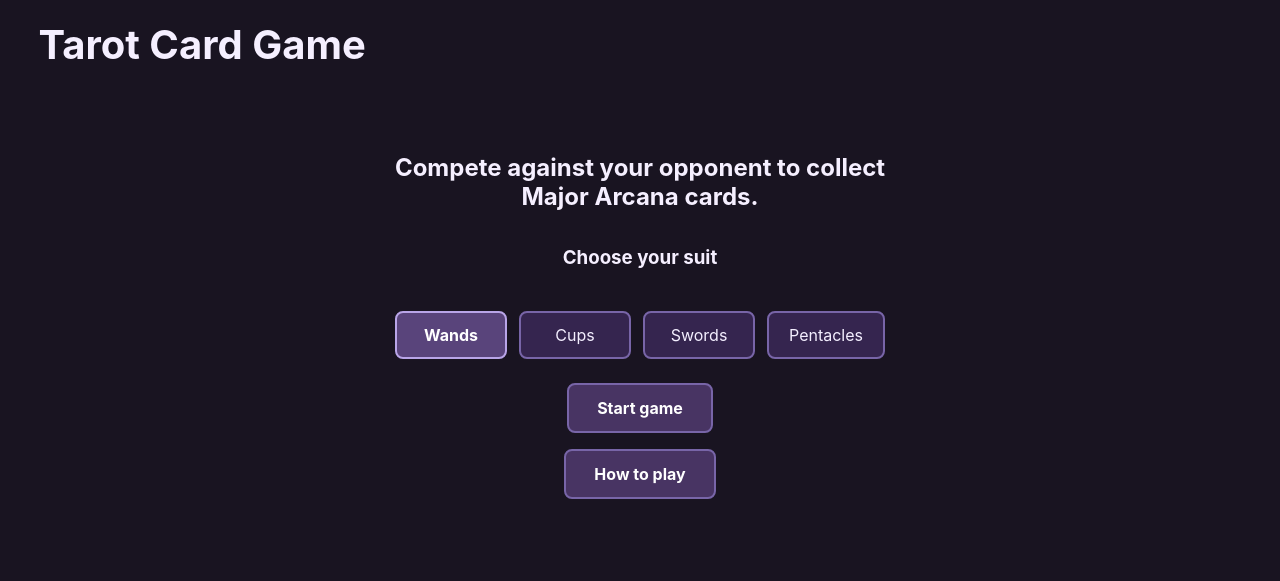
Test: App › returns to suit selection when New game is clicked
What coordinates should you click on to do the following:
click the button "Wands"
I would click on:
 (451, 335)
Its box is left=395, top=311, right=507, bottom=359.
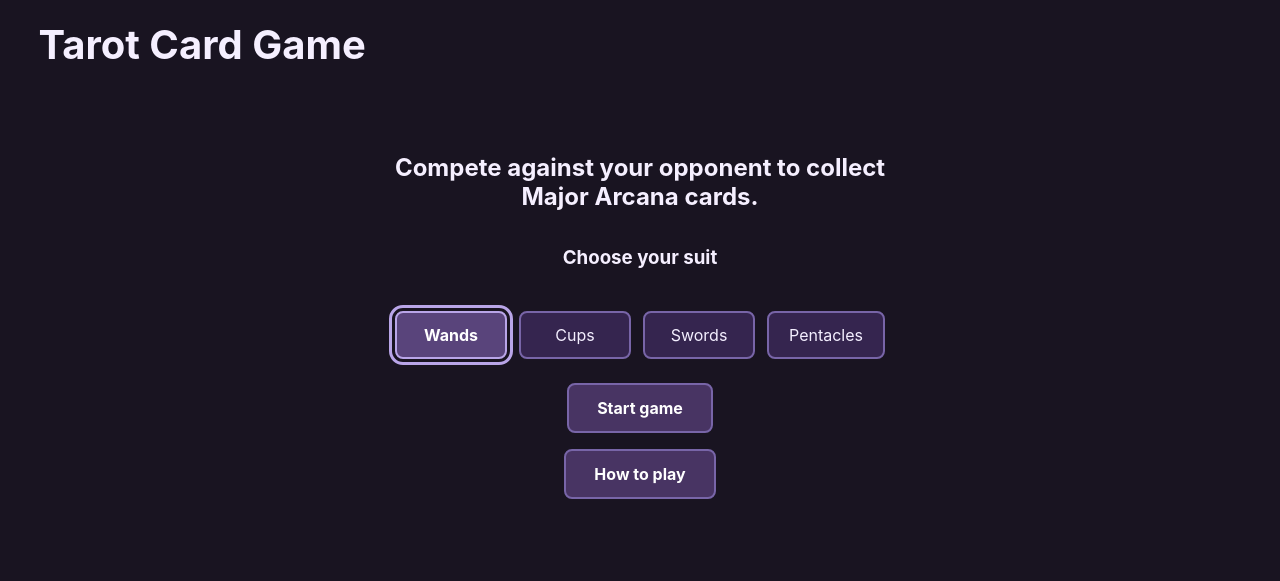
What coordinates should you click on to do the following:
click the button "Start game"
I would click on:
 (640, 408)
Its box is left=567, top=383, right=713, bottom=433.
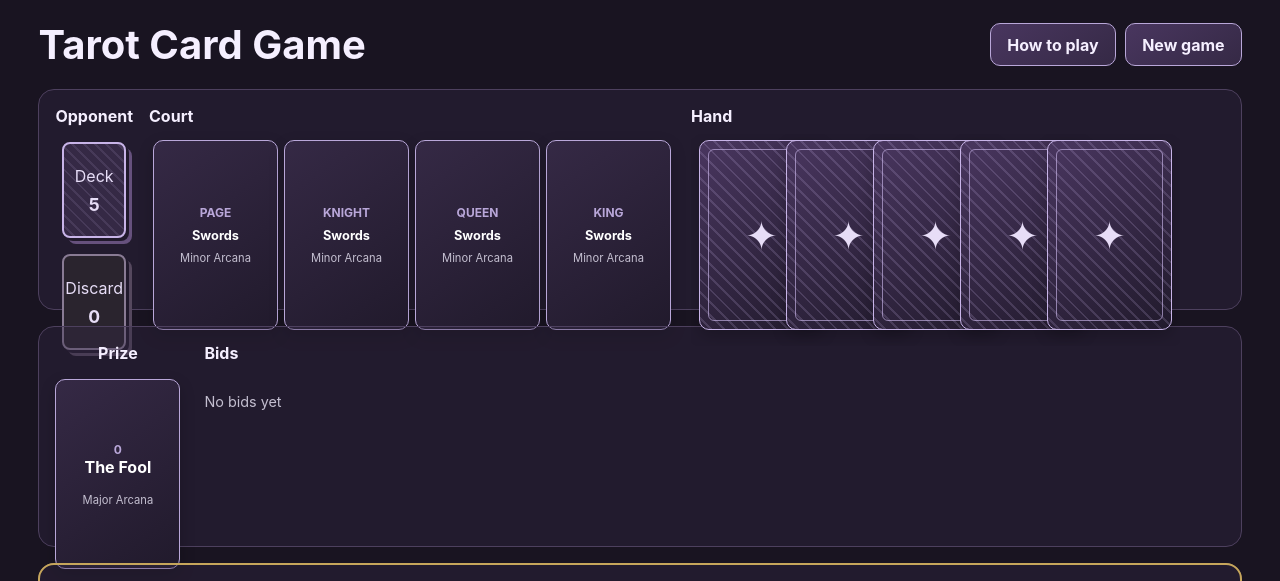
What coordinates should you click on to do the following:
click the button "New game"
I would click on:
 (1183, 44)
Its box is left=1125, top=23, right=1242, bottom=66.
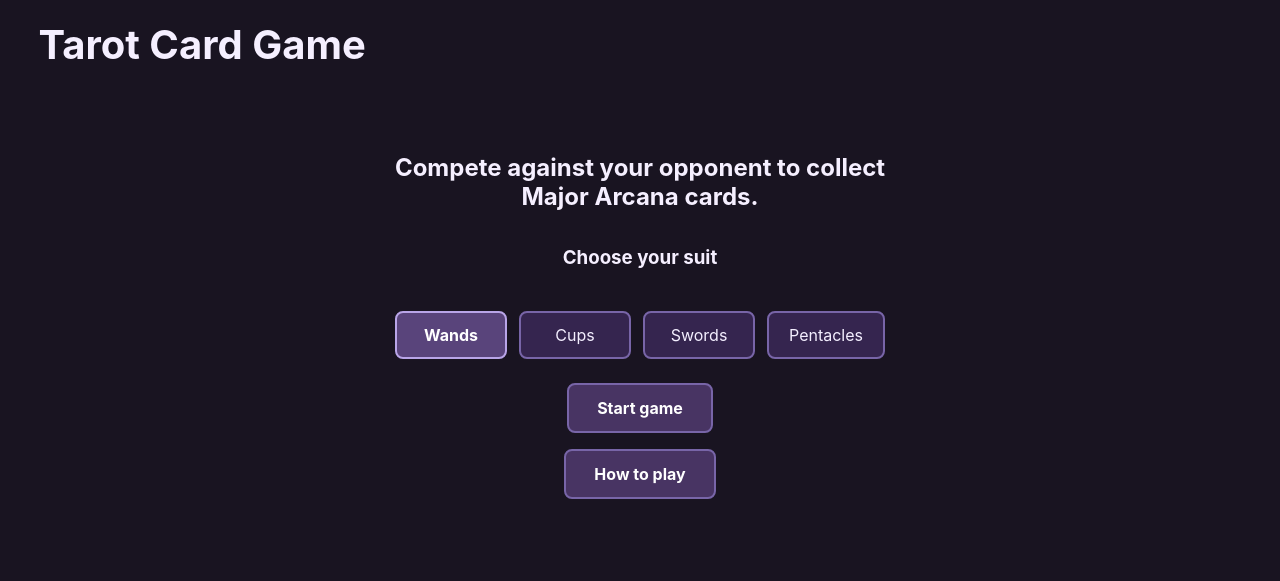
Expected: the heading "Choose your suit" is shown, left=563, top=246, right=717, bottom=269
Expected: the button "Start game" is shown, left=567, top=383, right=713, bottom=433
